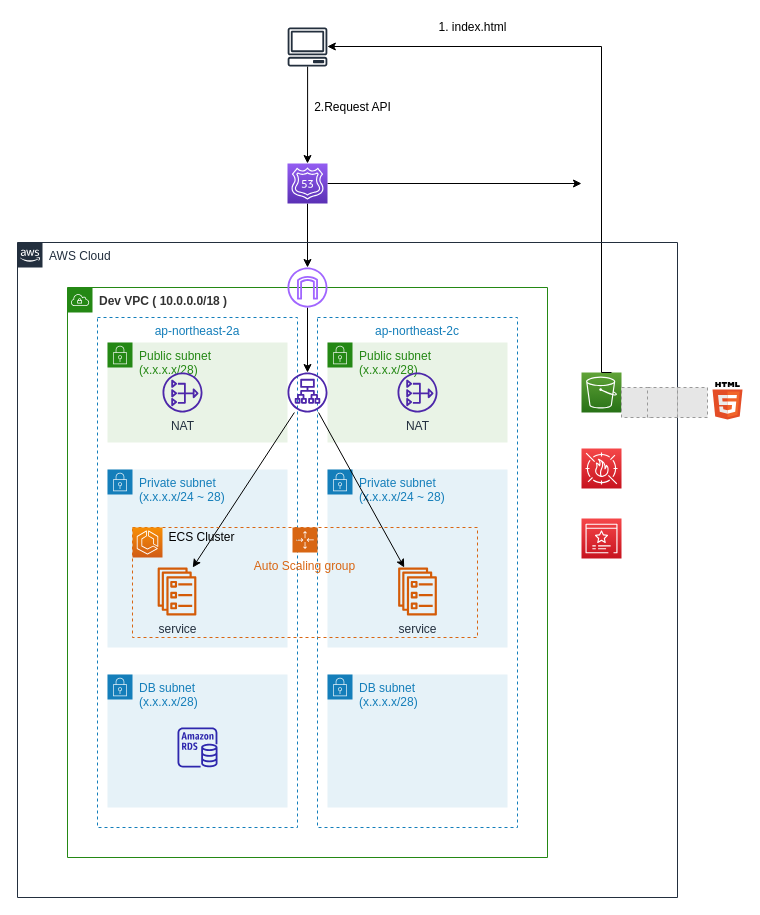
This 760x915 diagram has some shape labels left out. Grey dashed boxes stand in for pictures. The shapes that lost their labels are listed below. From the top down, each one's centre as x and y in pixels, then its label:
At (307,392): "external ALB".
At (601,392): "static-site".
At (601,468): "WAF".
At (601,538): "ACM".
